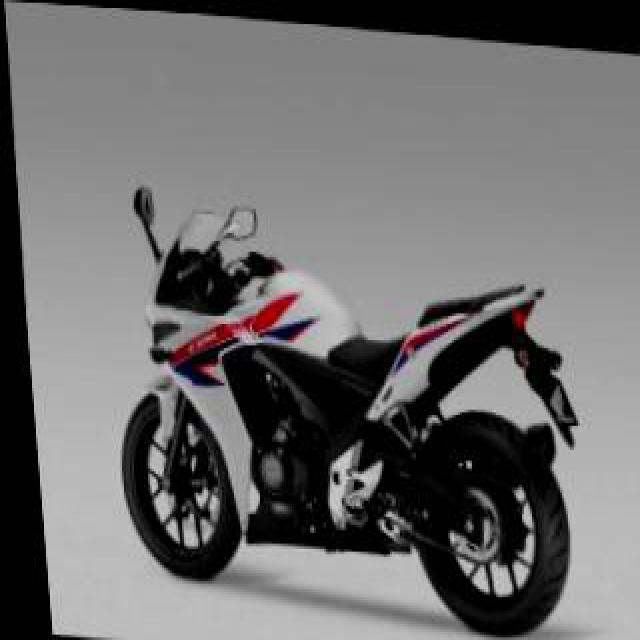CBR500R: (93, 190, 587, 632)
